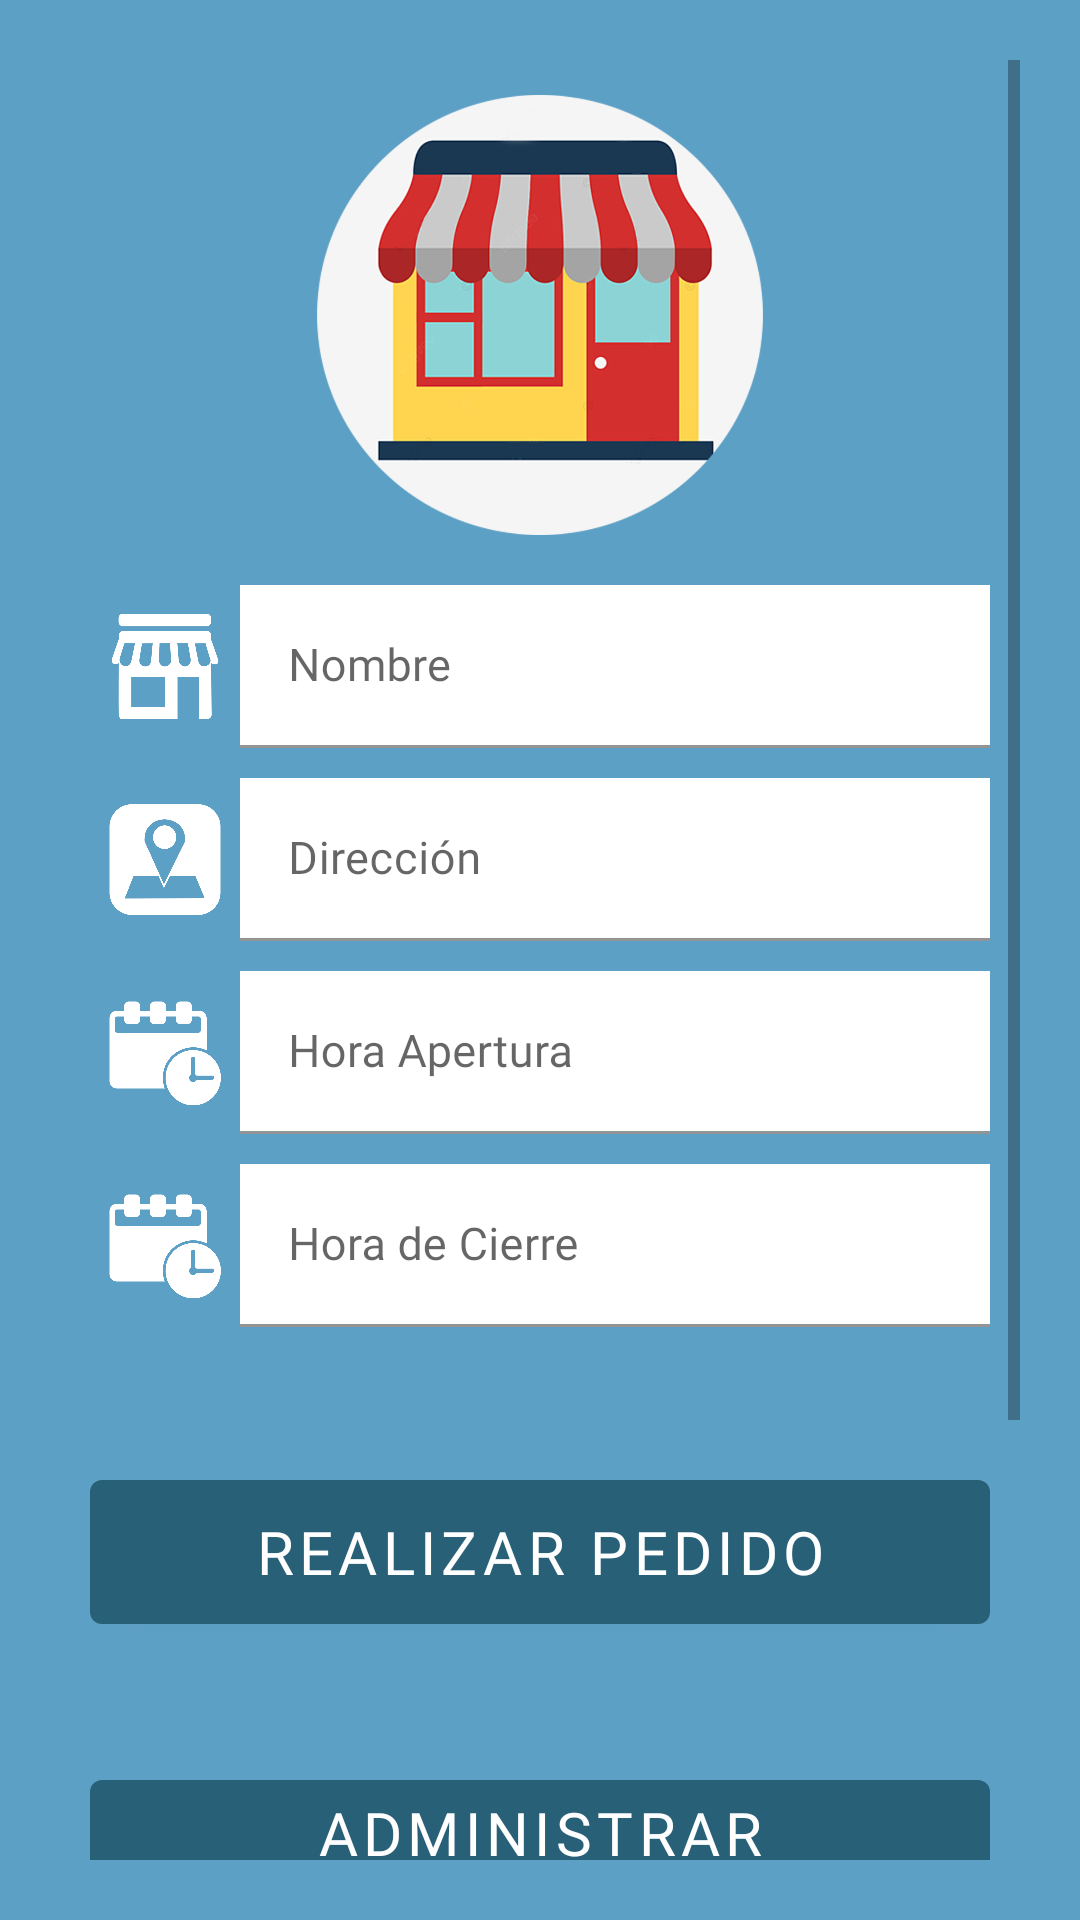

Named icons in this screenshot (1080 x 1920) and their centers, point (x, y):
business: point (165, 666)
calendar: point (165, 1053), point (165, 1246)
location: point (165, 859)
